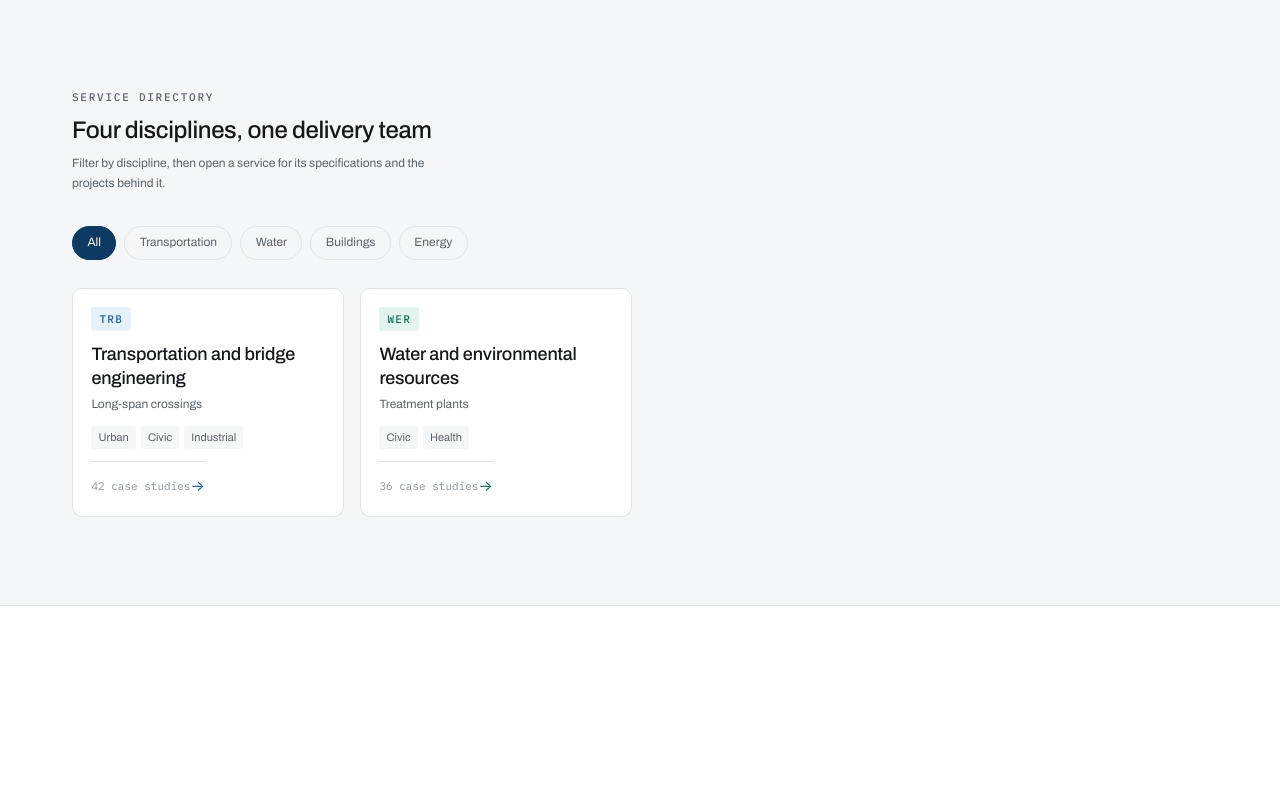
ServiceDirectory › shows the empty state when nothing matches
Click the button with class "chip" showing "Energy" at [433, 243], box [399,226,468,260]
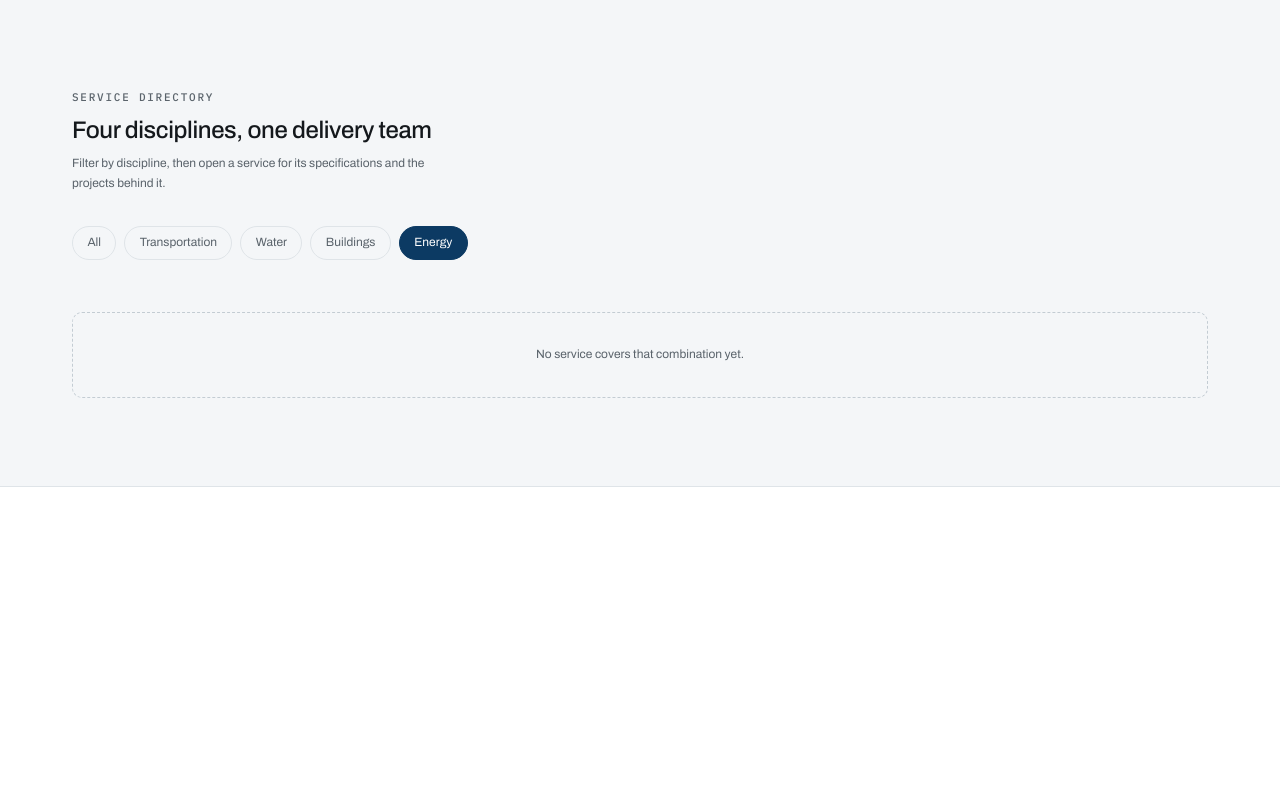
Expected: no buttons are shown
Expected: the text with class "empty" reads "No service covers that combination yet.", [536,347,744,361]
